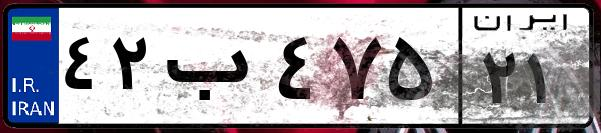1: (525, 38, 570, 115)
2: (475, 38, 525, 113), (110, 28, 158, 98)
4: (270, 28, 330, 110), (57, 26, 110, 100)
5: (385, 28, 445, 110)
7: (330, 28, 385, 110)
ب: (158, 20, 270, 120)
